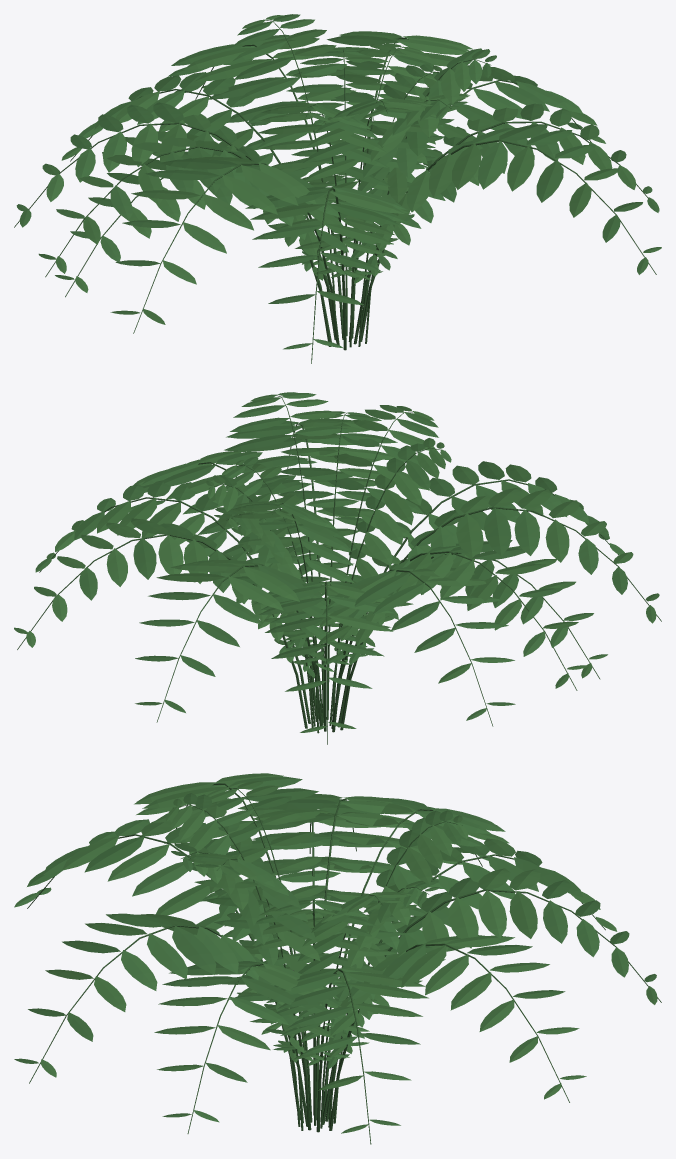
Rendered from l-fern.glb.
3 renders of one model, top to bottom at view 1: azimuth 30°, elevation 25°; view 2: azimuth 150°, elevation 25°; view 3: azimuth 270°, elevation 25°, orthographic. The views are drawn at different scales.
Visible parts, largest first — view 1: LowPolyHerbLeaves, LowPolyHerbStems; view 2: LowPolyHerbLeaves, LowPolyHerbStems; view 3: LowPolyHerbLeaves, LowPolyHerbStems.
Part boxes in pixels (<box>): LowPolyHerbLeaves: <box>16,14,661,349</box>; LowPolyHerbStems: <box>14,20,659,363</box>; LowPolyHerbLeaves: <box>14,392,659,732</box>; LowPolyHerbStems: <box>17,395,661,744</box>; LowPolyHerbLeaves: <box>14,773,657,1133</box>; LowPolyHerbStems: <box>27,783,661,1144</box>.
Size of the model in its own units: 1.41 by 0.7 by 1.33.
